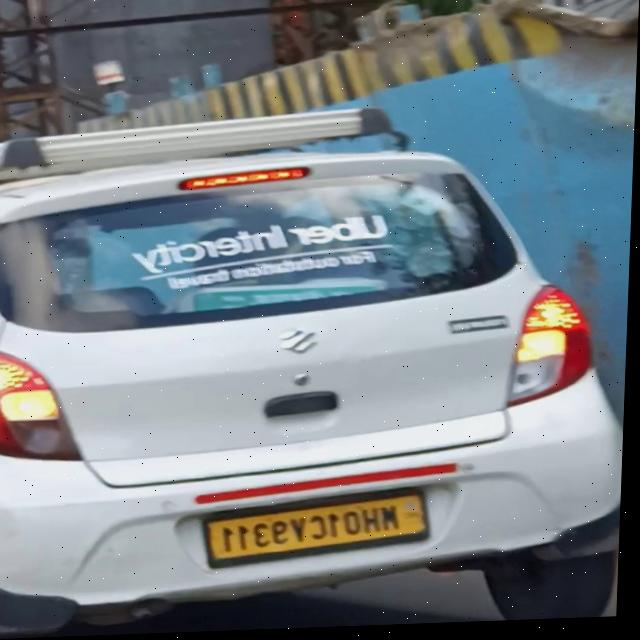plate: (197, 484, 439, 576)
